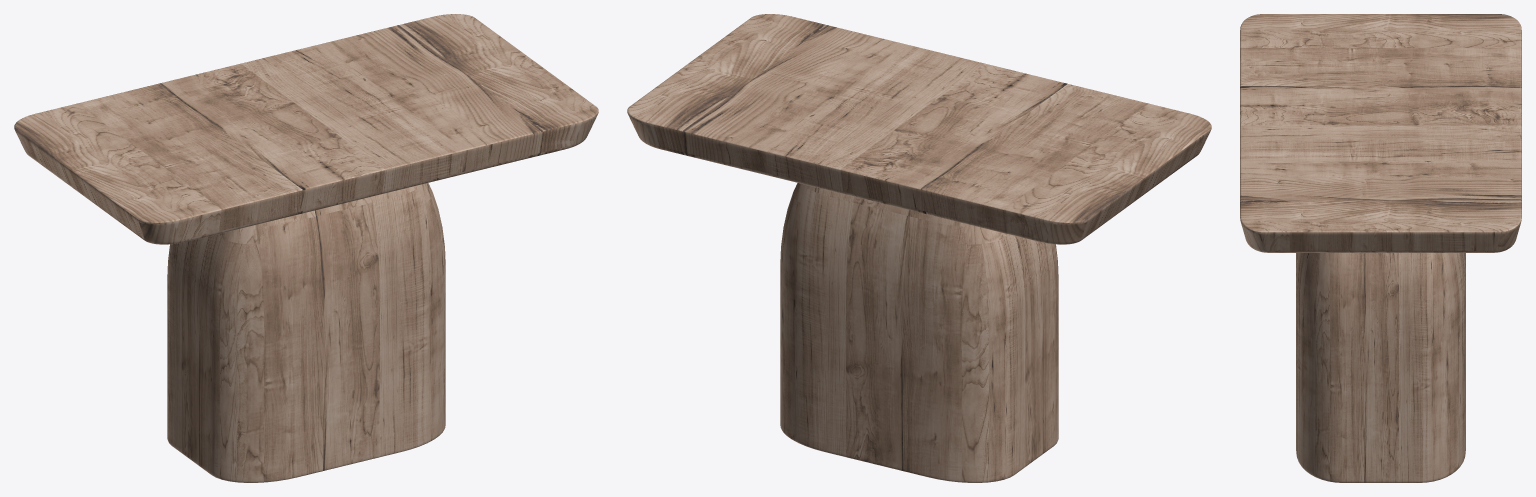
The model's file is sofa_table.obj.
3 renders of one model, left to right at view 1: azimuth 30°, elevation 25°; view 2: azimuth 150°, elevation 25°; view 3: azimuth 270°, elevation 25°, orthographic. The views are drawn at different scales.
Visible parts, largest first — view 1: Nikari_side_table; view 2: Nikari_side_table; view 3: Nikari_side_table.
Part boxes in pixels (x1,y1,x2,y2): Nikari_side_table: (14,14,598,482); Nikari_side_table: (627,14,1211,482); Nikari_side_table: (1240,14,1521,482).
Bounding box in the file's own units: 1.83 × 1.2 × 1.
1 material, 1 textured.
